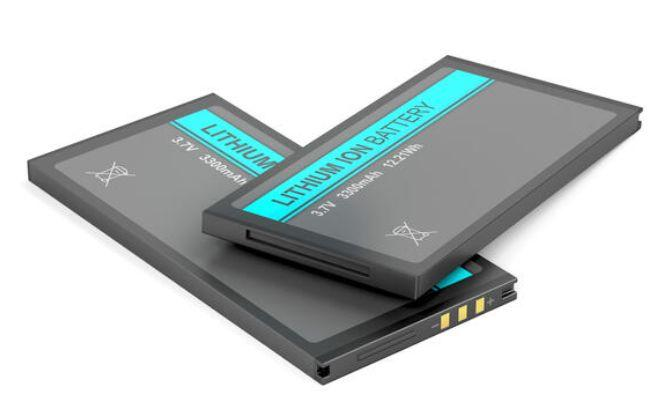battery: (24, 87, 519, 390), (200, 52, 644, 305)
